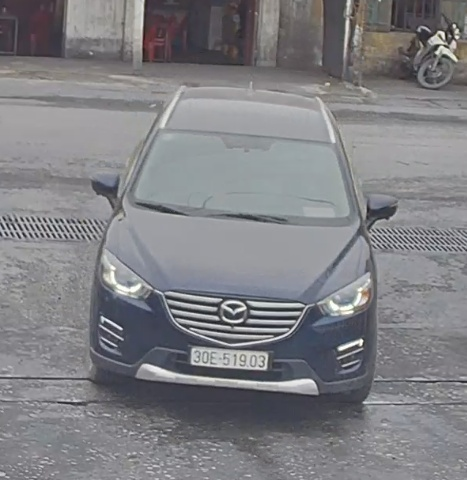vehicle plate: (187, 342, 269, 373)
